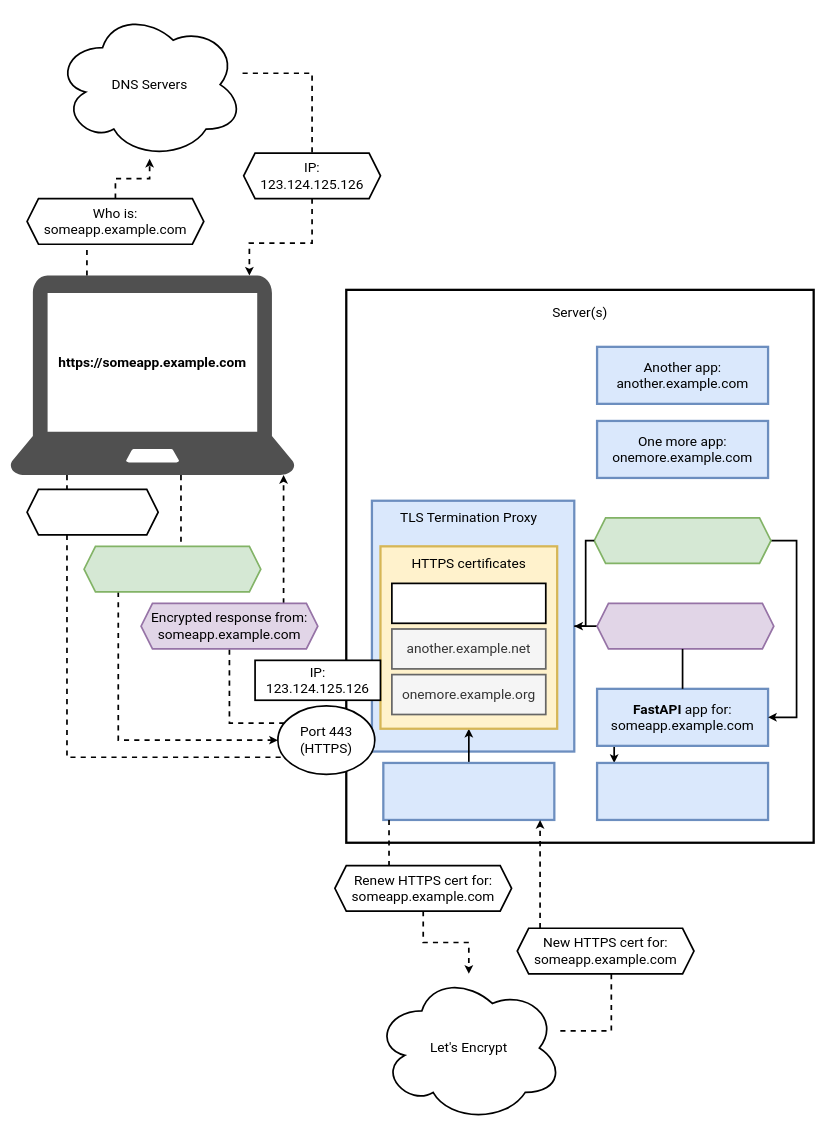
The diagram is 824 pixels wide and 1133 high, and some of its shapes have lost their labels. Here are the shapes that lost their labels. From the top down, the centre of each, then its label:
At pixel 92 512: "TLS Handshake".
At pixel 682 540: "Decrypted request for: someapp.example.com".
At pixel 172 569: "Encrypted request for: someapp.example.com".
At pixel 468 603: "someapp.example.com".
At pixel 685 626: "Plain response from: someapp.example.com".
At pixel 468 791: "Cert Renovation Program".
At pixel 682 791: "A Database".
